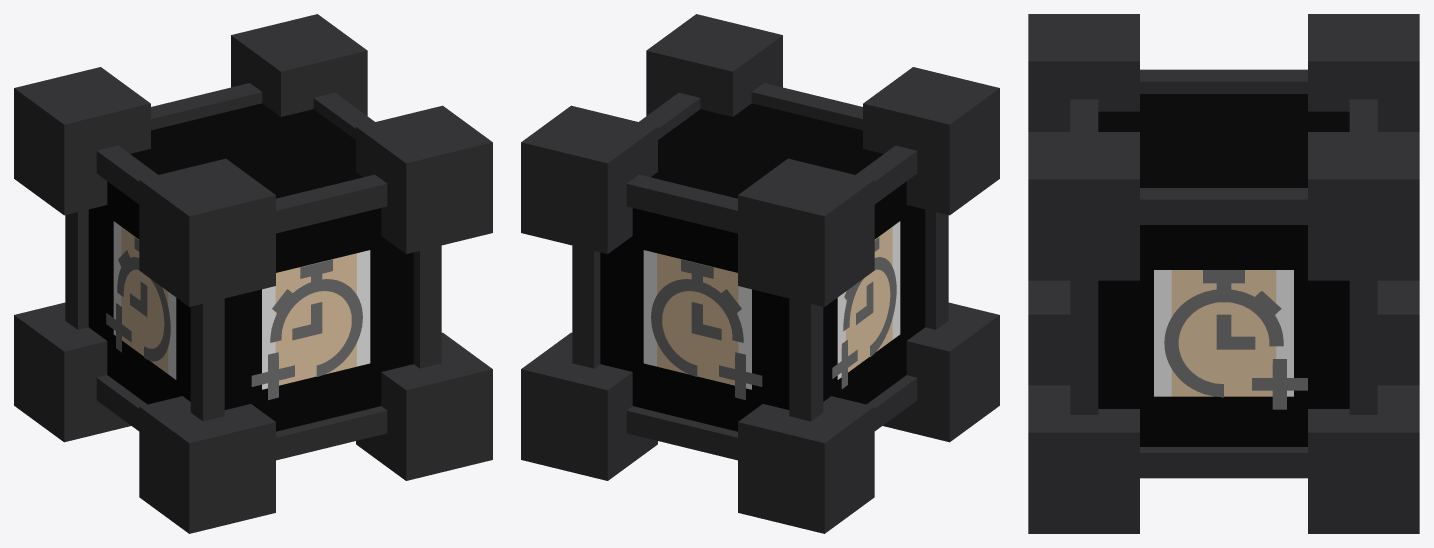
File: BonusTime.obj
3 views of the same model, side by side, from view 1: azimuth 30°, elevation 25°; view 2: azimuth 150°, elevation 25°; view 3: azimuth 270°, elevation 25° (orthographic). The views are drawn at different scales.
Parts seen in each view (by area): view 1: bonusTime, Face3_Plane.002, Face1_Plane; view 2: bonusTime, Face4_Plane.003, Face1_Plane; view 3: bonusTime, Face2_Plane.001.
Boxes of the visible parts, left/top/right/bottom form: bonusTime: left=14, top=14, right=492, bottom=533; Face3_Plane.002: left=251, top=259, right=362, bottom=399; Face1_Plane: left=106, top=237, right=170, bottom=361; bonusTime: left=521, top=14, right=999, bottom=533; Face4_Plane.003: left=651, top=259, right=762, bottom=399; Face1_Plane: left=832, top=237, right=896, bottom=388; bonusTime: left=1028, top=14, right=1419, bottom=533; Face2_Plane.001: left=1164, top=270, right=1307, bottom=409.
Bounding box in the file's own units: 2.8 × 2.8 × 2.8.
Materials: 7 (5 with a texture image).
